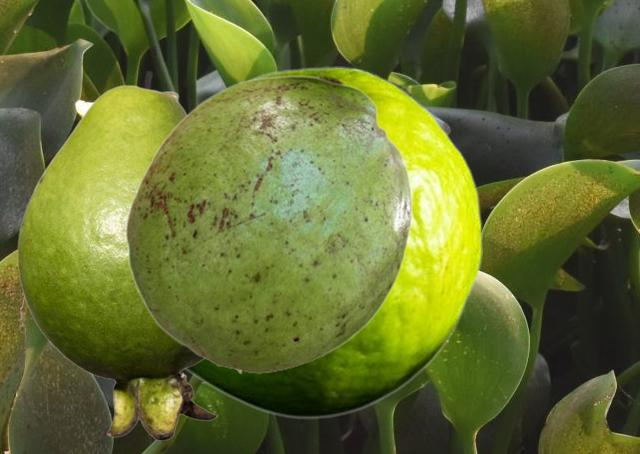guava: (184, 66, 481, 418), (124, 75, 412, 372), (17, 84, 242, 440)
